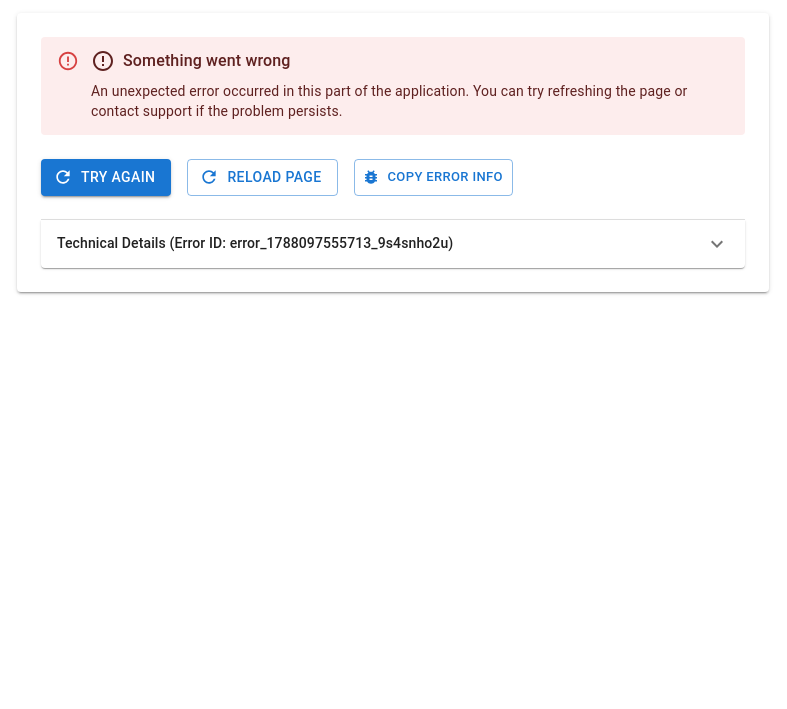
Test: ErrorBoundary › should show technical details in accordion
# Find and click the accordion to expand technical details
Click the button "Technical Details". click: [393, 244]
box: [57,232,729,256]
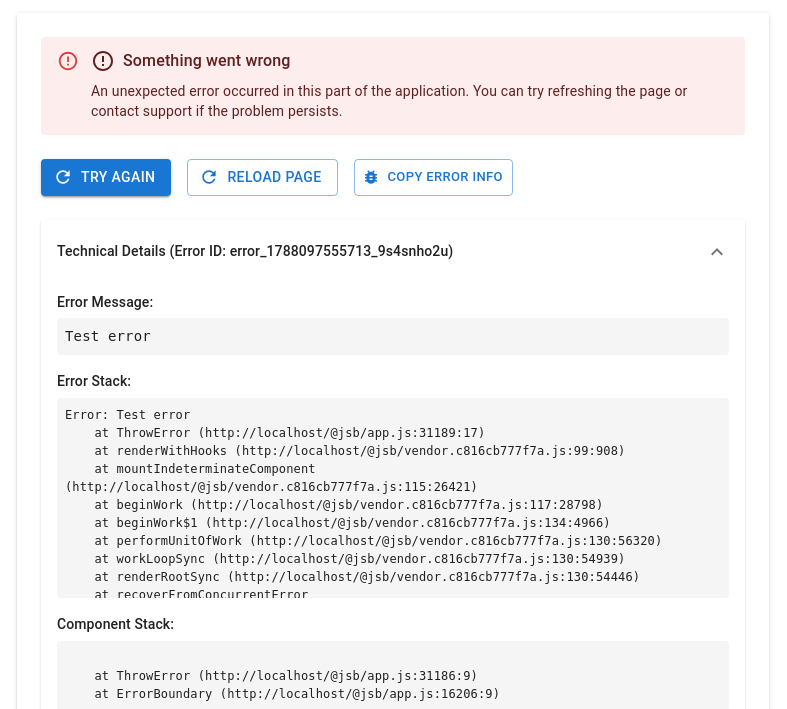
Expected: the heading "Error Message:" is shown, [57,294,153,310]
Expected: the text "Test error" is shown, [57,318,729,355]
